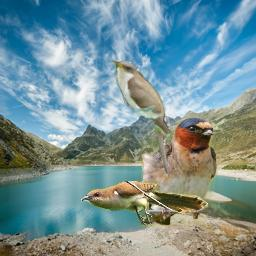Cuckoo: (108, 57, 173, 179), (81, 181, 209, 226)
Swallow: (139, 117, 219, 226)
